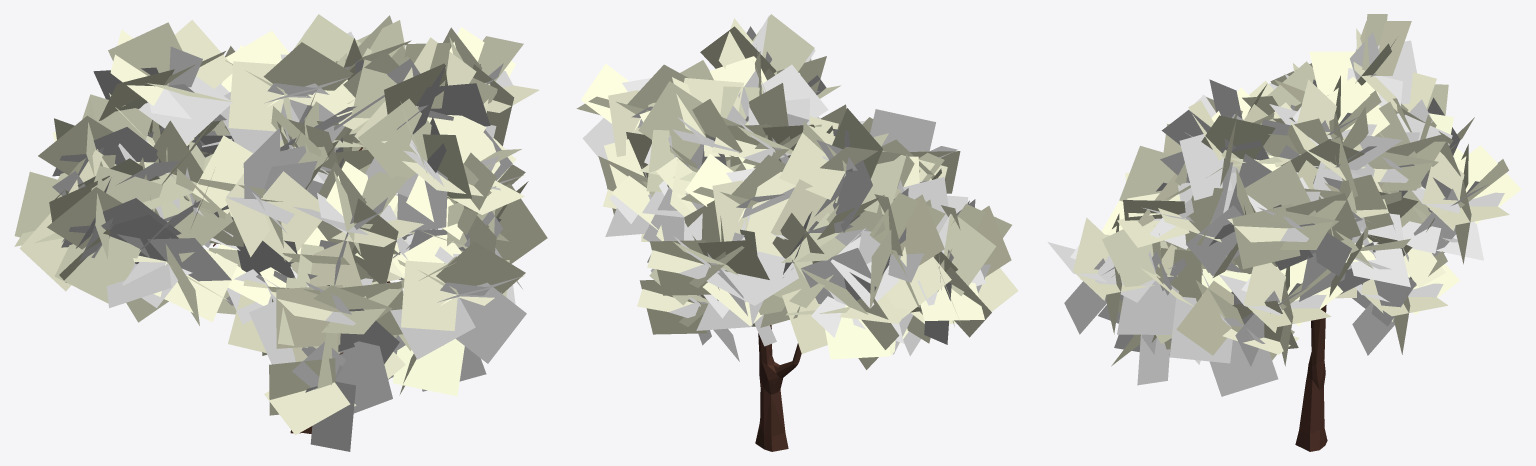
Rendered from tree 04.fbx.
The picture shows the model from 3 angles, left to right: view 1: azimuth 30°, elevation 25°; view 2: azimuth 150°, elevation 25°; view 3: azimuth 270°, elevation 25°; orthographic projection. The views are drawn at different scales.
Parts seen in each view (by area): view 1: Plane.061; view 2: Plane.061; view 3: Plane.061.
Part boxes in pixels (left/top/right/bottom): Plane.061: left=14, top=14, right=547, bottom=451; Plane.061: left=576, top=14, right=1018, bottom=451; Plane.061: left=1047, top=14, right=1521, bottom=451.
Bounding box in the file's own units: 1630 × 1361 × 1535.
